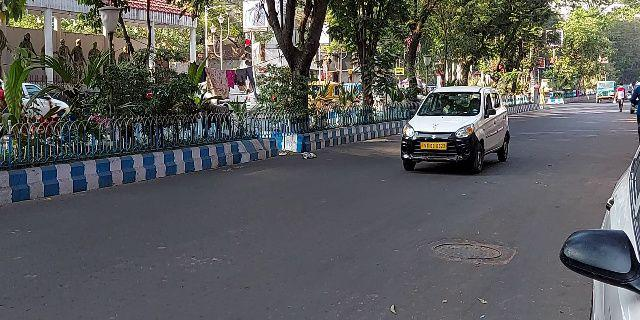Car: (398, 85, 511, 177)
